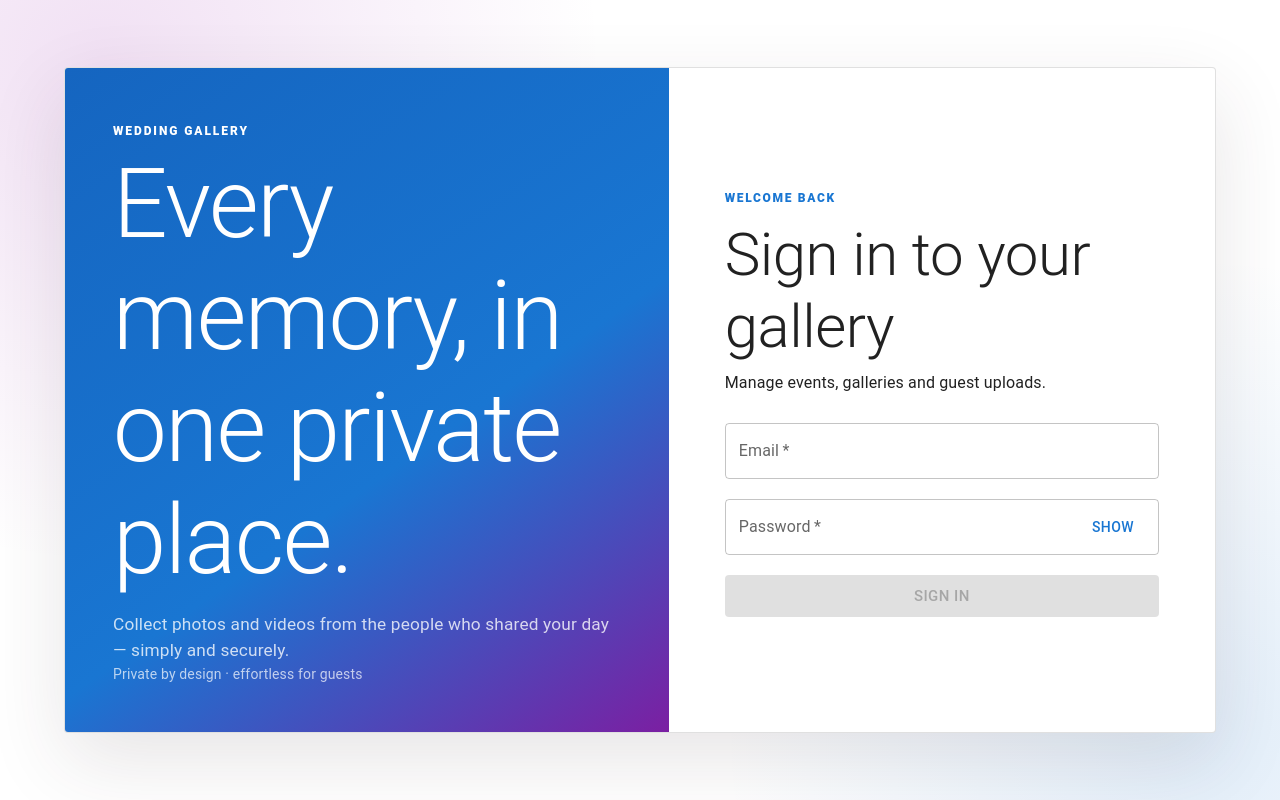
Test case: Login form › shows an authentication error and stays on the form when credentials are invalid
Type "admin@example.com" into the field labelled "Email *".
click(942, 451); type("admin@example.com")  # box left=725, top=423, right=1159, bottom=479
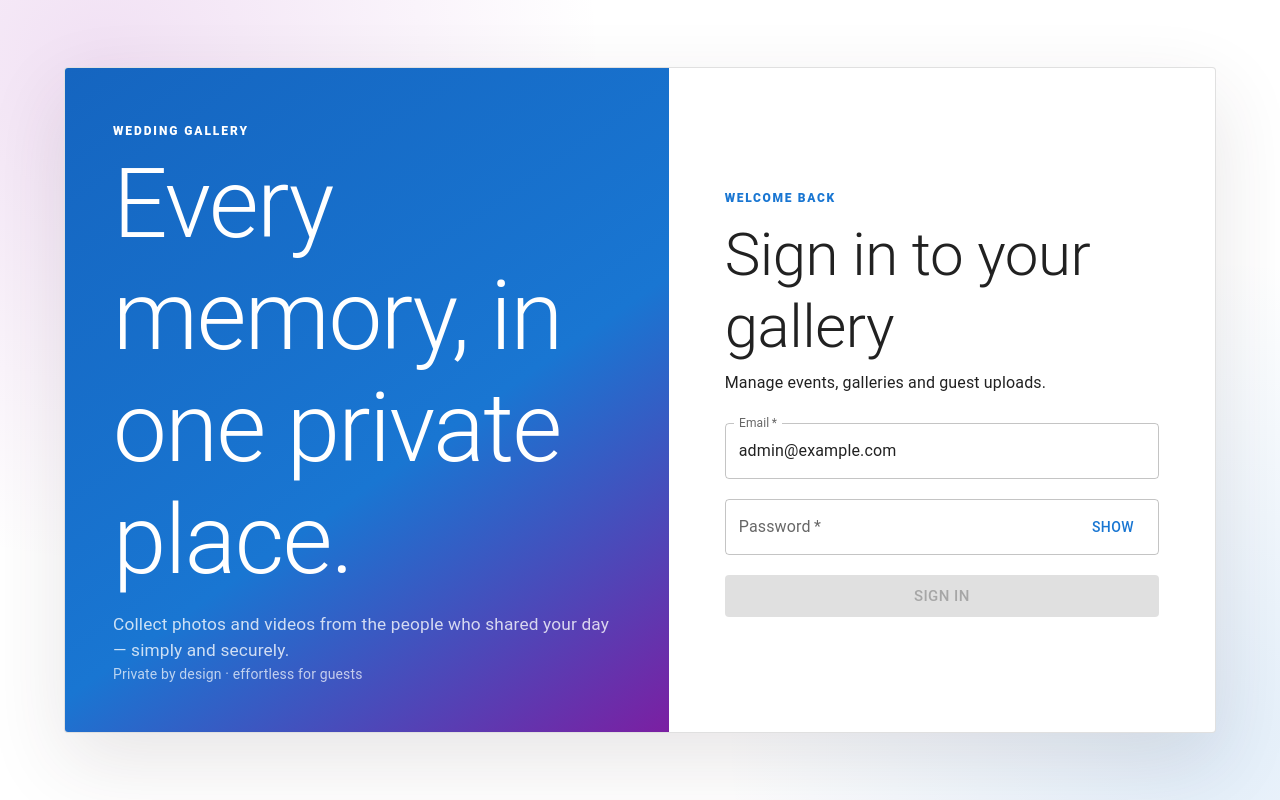
Type "wrongpass" into the password field labelled "Password *".
click(899, 527); type("wrongpass")  # box left=725, top=499, right=1073, bottom=555
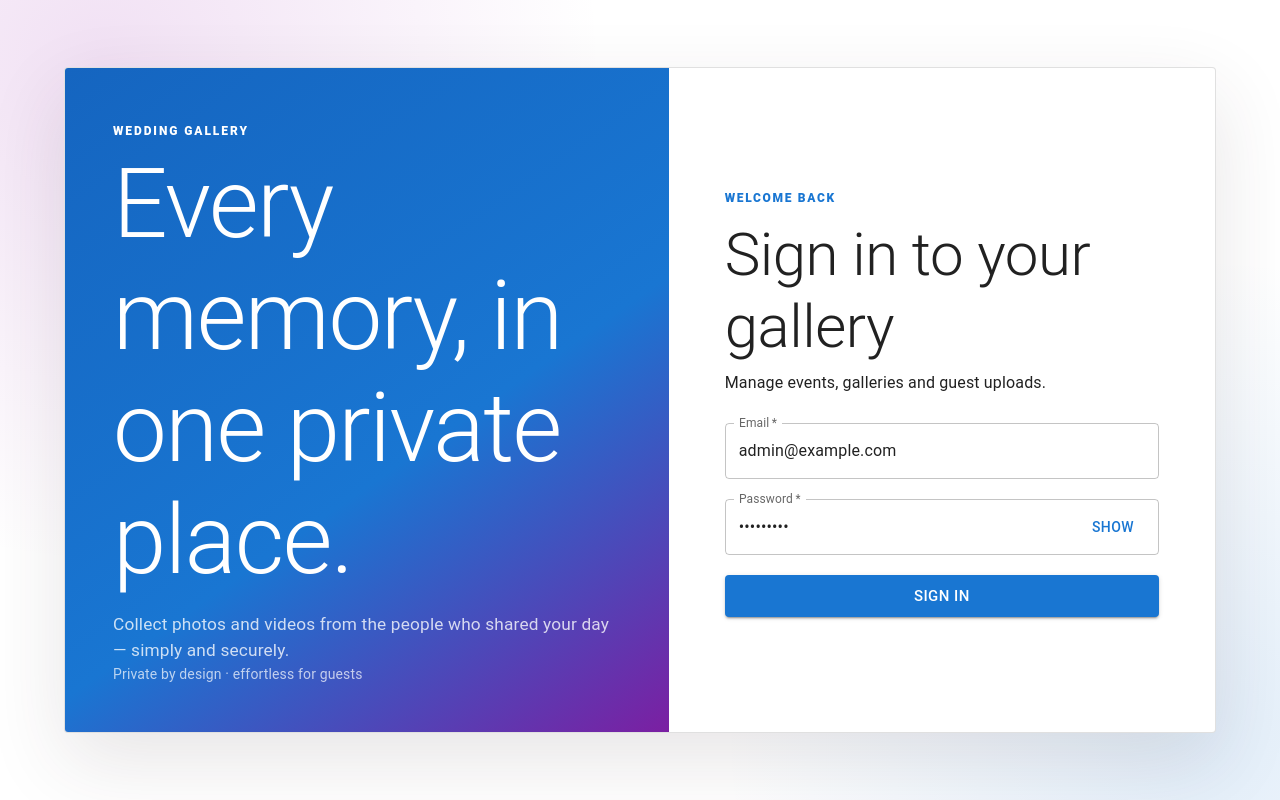
Click the button "Sign In".
click(942, 596)  # box left=725, top=575, right=1159, bottom=617
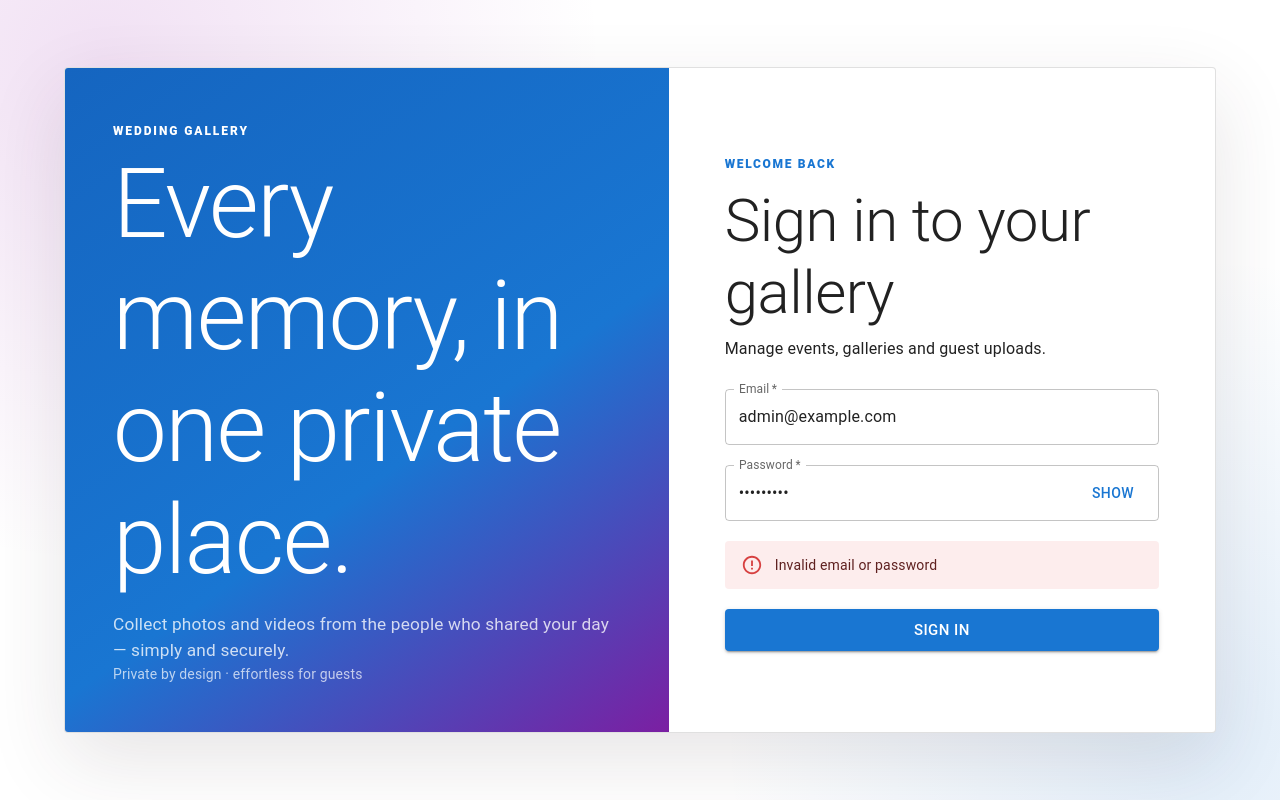
Expected: the text "Invalid email or password" is shown, left=775, top=557, right=937, bottom=573
